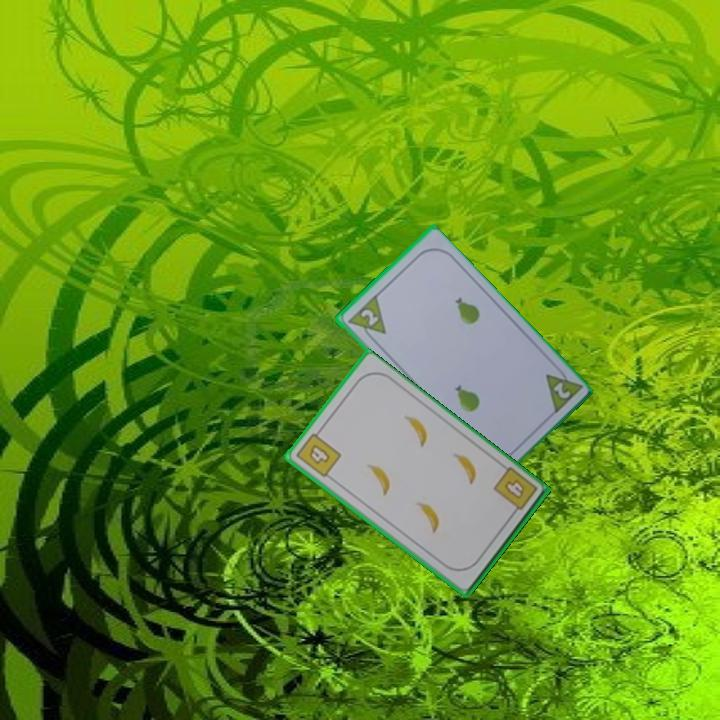2p: (357, 305, 381, 329), (549, 378, 573, 402)
4b: (292, 425, 344, 480), (489, 464, 540, 519)
